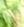Tomato leaf mosaic virus: (6, 0, 24, 27)
